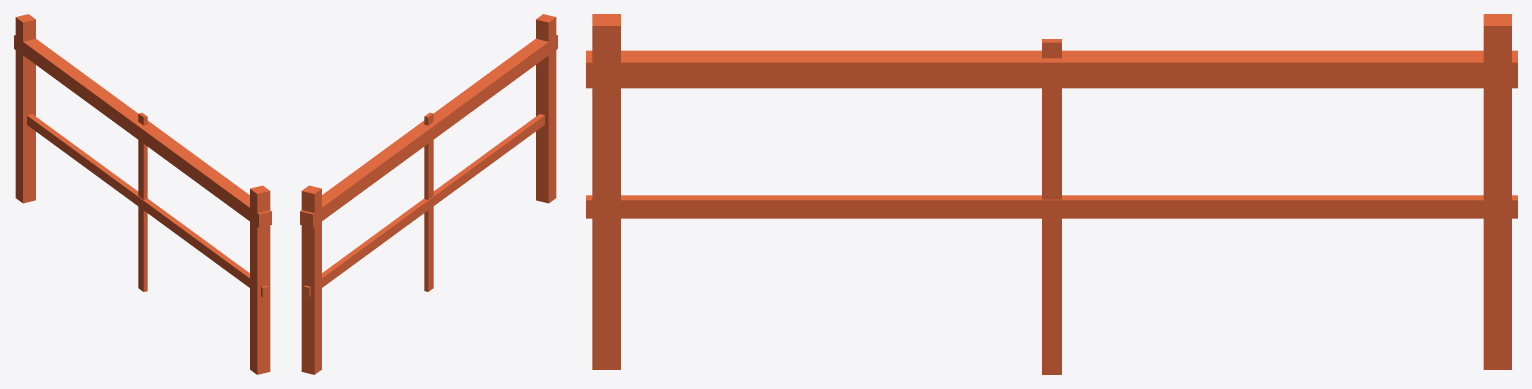
The model's file is gazebo_railing_small.glb.
3 renders of one model, left to right at view 1: azimuth 30°, elevation 25°; view 2: azimuth 150°, elevation 25°; view 3: azimuth 270°, elevation 25°, orthographic. The views are drawn at different scales.
Visible parts, largest first — view 1: gazebo_railing_small.001; view 2: gazebo_railing_small.001; view 3: gazebo_railing_small.001.
Part boxes in pixels (left/top/right/bottom): gazebo_railing_small.001: left=14, top=14, right=271, bottom=374; gazebo_railing_small.001: left=300, top=14, right=557, bottom=374; gazebo_railing_small.001: left=586, top=14, right=1517, bottom=374.
Size of the model in its own units: 0.1021 by 1.4 by 3.34.
